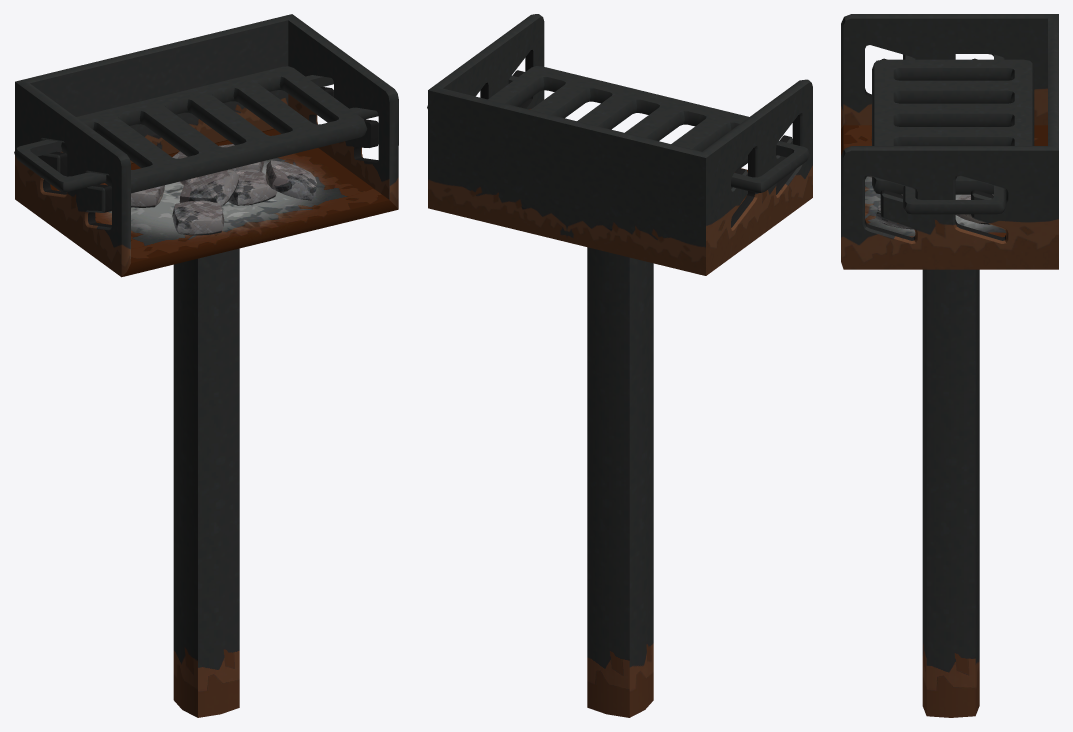
Rendered from grill.glb.
3 views of the same model, side by side, from view 1: azimuth 30°, elevation 25°; view 2: azimuth 150°, elevation 25°; view 3: azimuth 270°, elevation 25° (orthographic).
Visible parts, largest first — view 1: RecRoyale_Frontier_Grill; view 2: RecRoyale_Frontier_Grill; view 3: RecRoyale_Frontier_Grill.
Part boxes in pixels (x1,y1,x2,y2): RecRoyale_Frontier_Grill: (14, 14, 398, 717); RecRoyale_Frontier_Grill: (427, 14, 812, 717); RecRoyale_Frontier_Grill: (841, 14, 1058, 717).
Size of the model in its own units: 0.7287 by 1.28 by 0.4041.
1 material, 1 textured.
